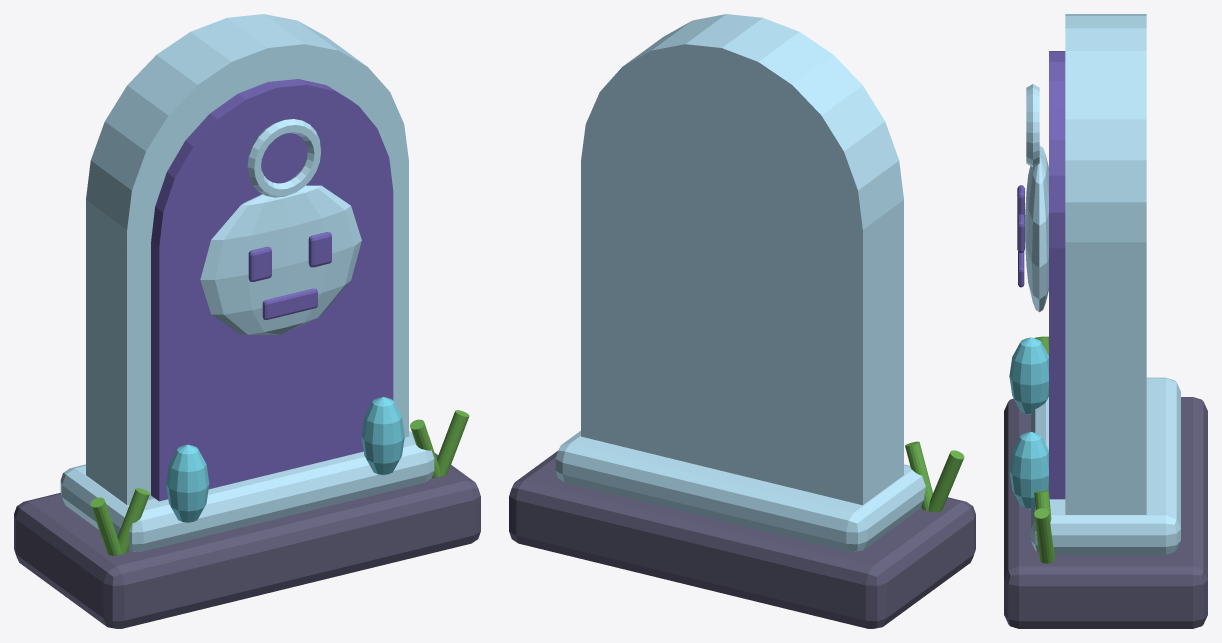
File: Grave_Lunar.glb
3 views of the same model, side by side, from view 1: azimuth 30°, elevation 25°; view 2: azimuth 150°, elevation 25°; view 3: azimuth 270°, elevation 25° (orthographic).
Parts seen in each view (by area): view 1: Inset.004, Arch.004, Foundation.004, ZombieFace.004, Foot.004, MoonHalo, Crystal.001, Crystal, Grin.004, Grass.019, Grass.016, Grass.017 (+2 smaller); view 2: Arch.004, Foundation.004, Foot.004, Grass.016, Grass.017; view 3: Arch.004, Foundation.004, Foot.004, Inset.004, ZombieFace.004, Crystal, Crystal.001, MoonHalo, Grass.019, Grass.018, Eye.009.
Part boxes in pixels (x1,y1,x2,y2): Inset.004: (151,79,393,501); Arch.004: (86,14,408,505); Foundation.004: (14,453,480,628); ZombieFace.004: (200,185,361,334); Foot.004: (60,431,434,551); MoonHalo: (247,119,320,197); Crystal.001: (361,397,404,475); Crystal: (166,444,209,522); Grin.004: (262,288,317,319); Grass.019: (437,410,469,476); Grass.016: (90,497,120,555); Grass.017: (117,488,149,554); Arch.004: (581,14,903,505); Foundation.004: (509,451,975,628); Foot.004: (555,431,925,551); Grass.016: (928,450,964,512); Grass.017: (905,441,932,510); Arch.004: (1065,14,1146,514); Foundation.004: (1004,397,1207,628); Foot.004: (1031,377,1180,554); Inset.004: (1049,51,1065,499); ZombieFace.004: (1025,146,1048,312); Crystal: (1009,337,1048,414); Crystal.001: (1009,431,1048,509); MoonHalo: (1026,84,1039,167); Grass.019: (1034,508,1054,563); Grass.018: (1034,490,1054,557); Eye.009: (1017,214,1024,252).
Size of the model in its own units: 2.01 by 2.65 by 0.95.
